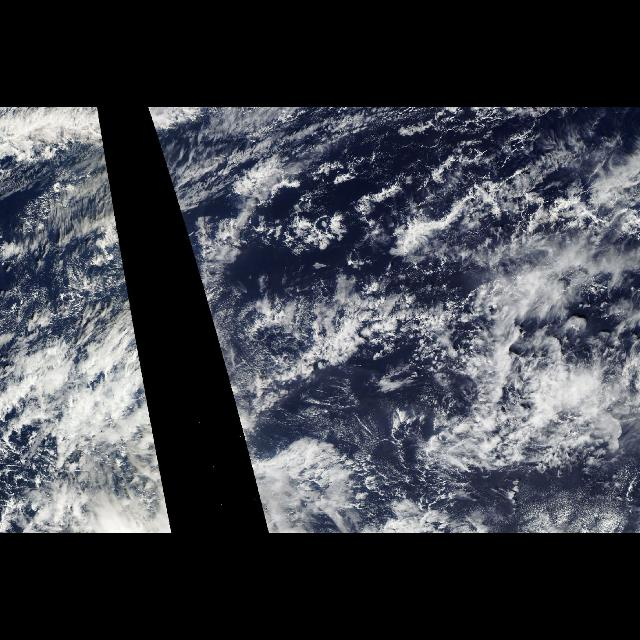Fish: (1, 313, 166, 531), (454, 278, 620, 476)
